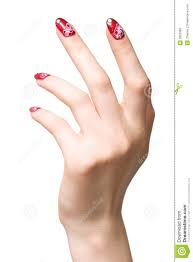hand: (18, 8, 159, 232)
